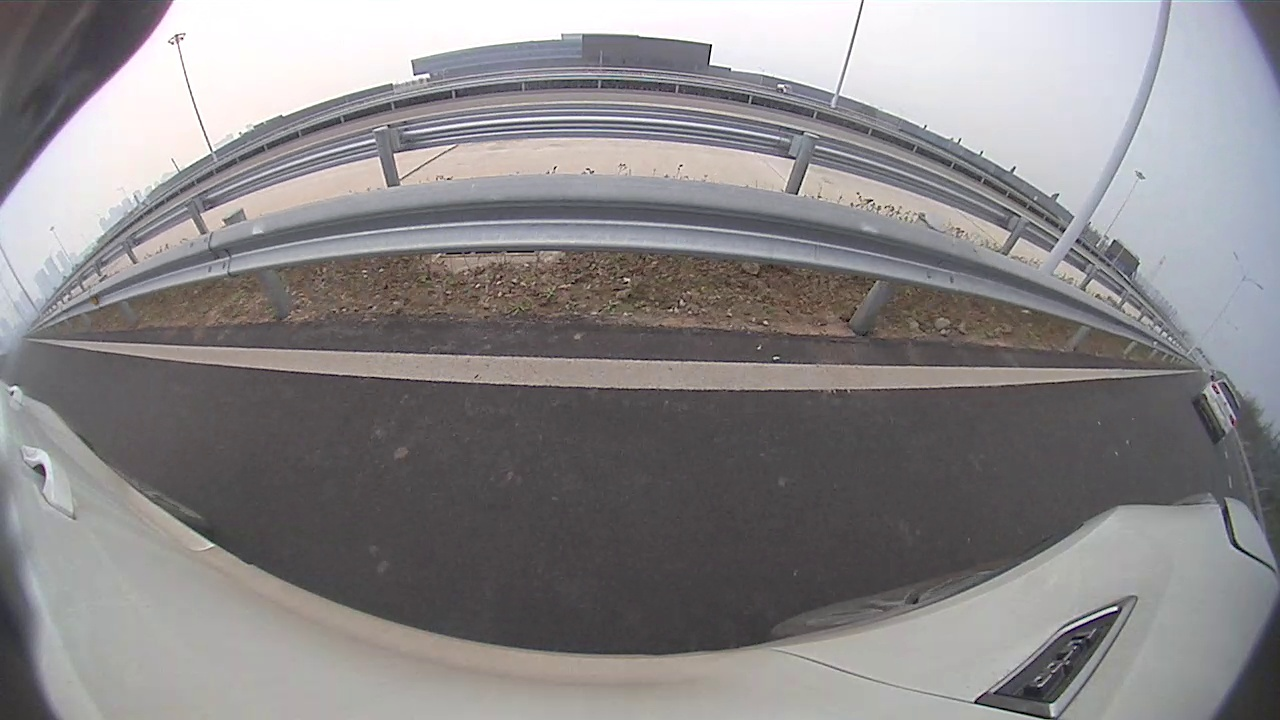car: (277, 125, 525, 278)
front: (504, 183, 523, 223)
rear: (403, 202, 447, 265)
